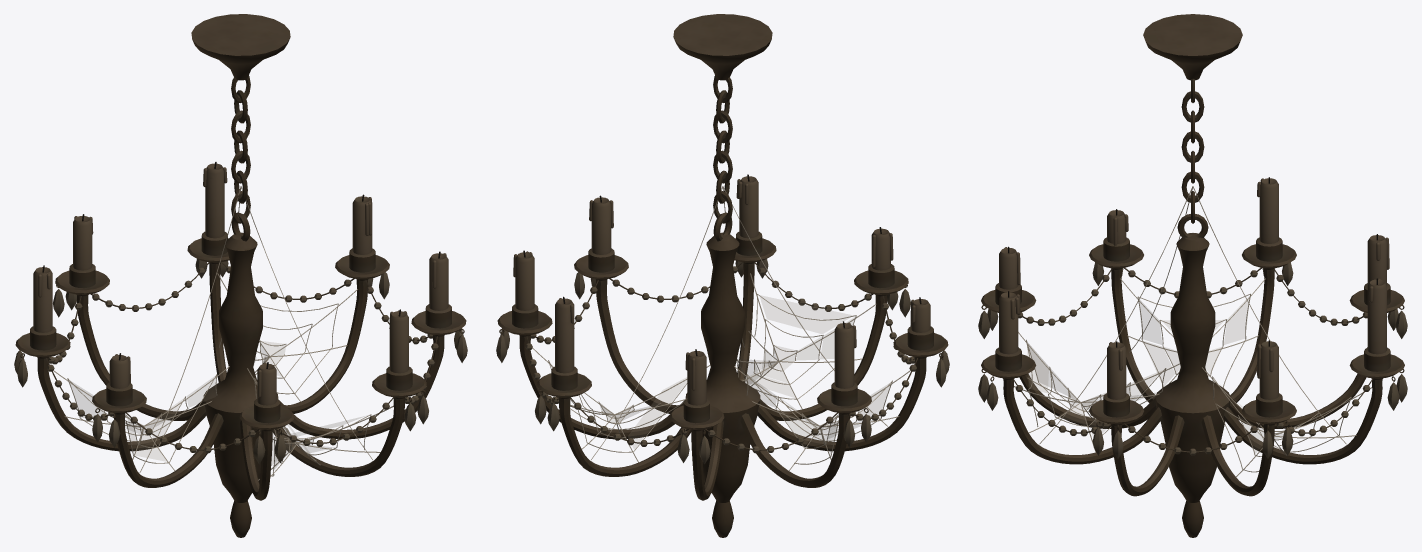
The model's file is dusty-chandelier.glb.
3 renders of one model, left to right at view 1: azimuth 30°, elevation 25°; view 2: azimuth 150°, elevation 25°; view 3: azimuth 270°, elevation 25°, orthographic.
Parts seen in each view (by area): view 1: dusty-chandelier_body, dusty-chandelier_web; view 2: dusty-chandelier_body, dusty-chandelier_web; view 3: dusty-chandelier_body, dusty-chandelier_web.
Boxes of the visible parts, box(x1,y1,x2,y2) form: dusty-chandelier_body: box(14, 14, 467, 537); dusty-chandelier_web: box(53, 186, 393, 480); dusty-chandelier_body: box(496, 14, 949, 537); dusty-chandelier_web: box(532, 186, 910, 470); dusty-chandelier_body: box(978, 14, 1407, 537); dusty-chandelier_web: box(1014, 186, 1371, 477).
Bounding box in the file's own units: 0.775 × 1 × 0.775.
Materials: 3 (1 with a texture image).
